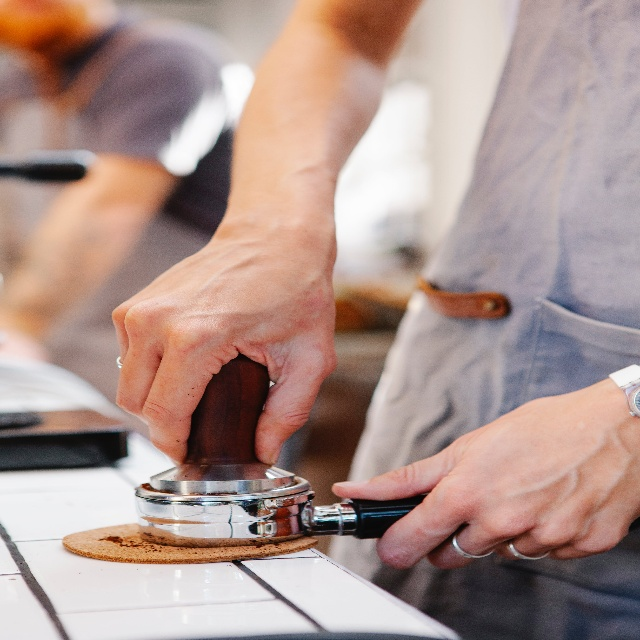Sin_guantes: (332, 381, 640, 570), (111, 227, 338, 466)
